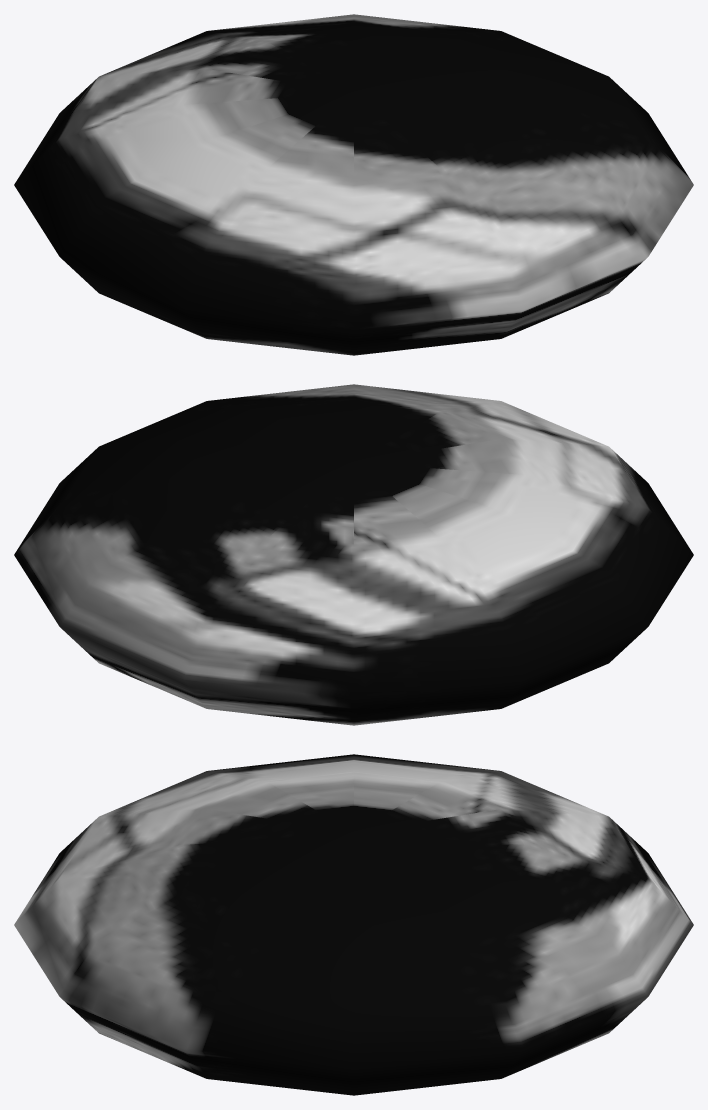
File: disk.gltf
3 renders of one model, top to bottom at view 1: azimuth 30°, elevation 25°; view 2: azimuth 150°, elevation 25°; view 3: azimuth 270°, elevation 25°, orthographic.
Parts seen in each view (by area): view 1: Mesh_0; view 2: Mesh_0; view 3: Mesh_0.
Boxes of the visible parts, x1,y1,x2,y2 form: Mesh_0: (14, 14, 693, 355); Mesh_0: (14, 384, 693, 725); Mesh_0: (14, 754, 693, 1095).
Bounding box in the file's own units: 1.03 × 0.3086 × 1.03.
Materials: 1 (1 with a texture image).
